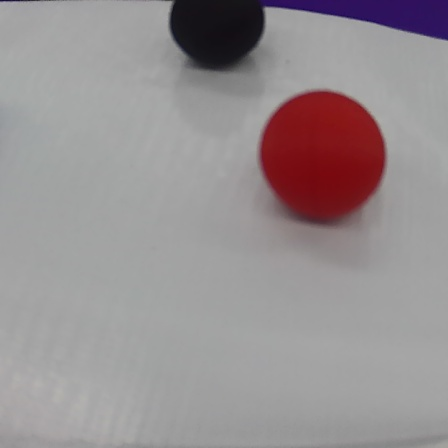black: (164, 0, 267, 72)
red: (257, 85, 388, 229)
